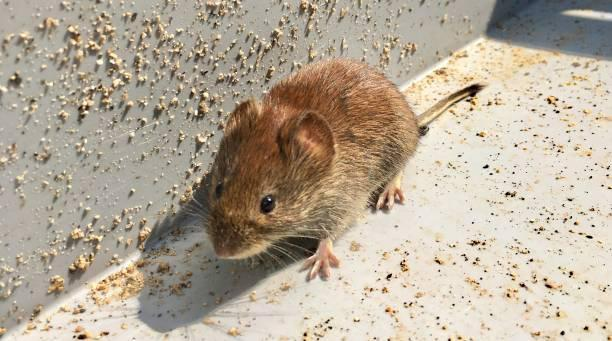rat: (207, 59, 490, 282)
